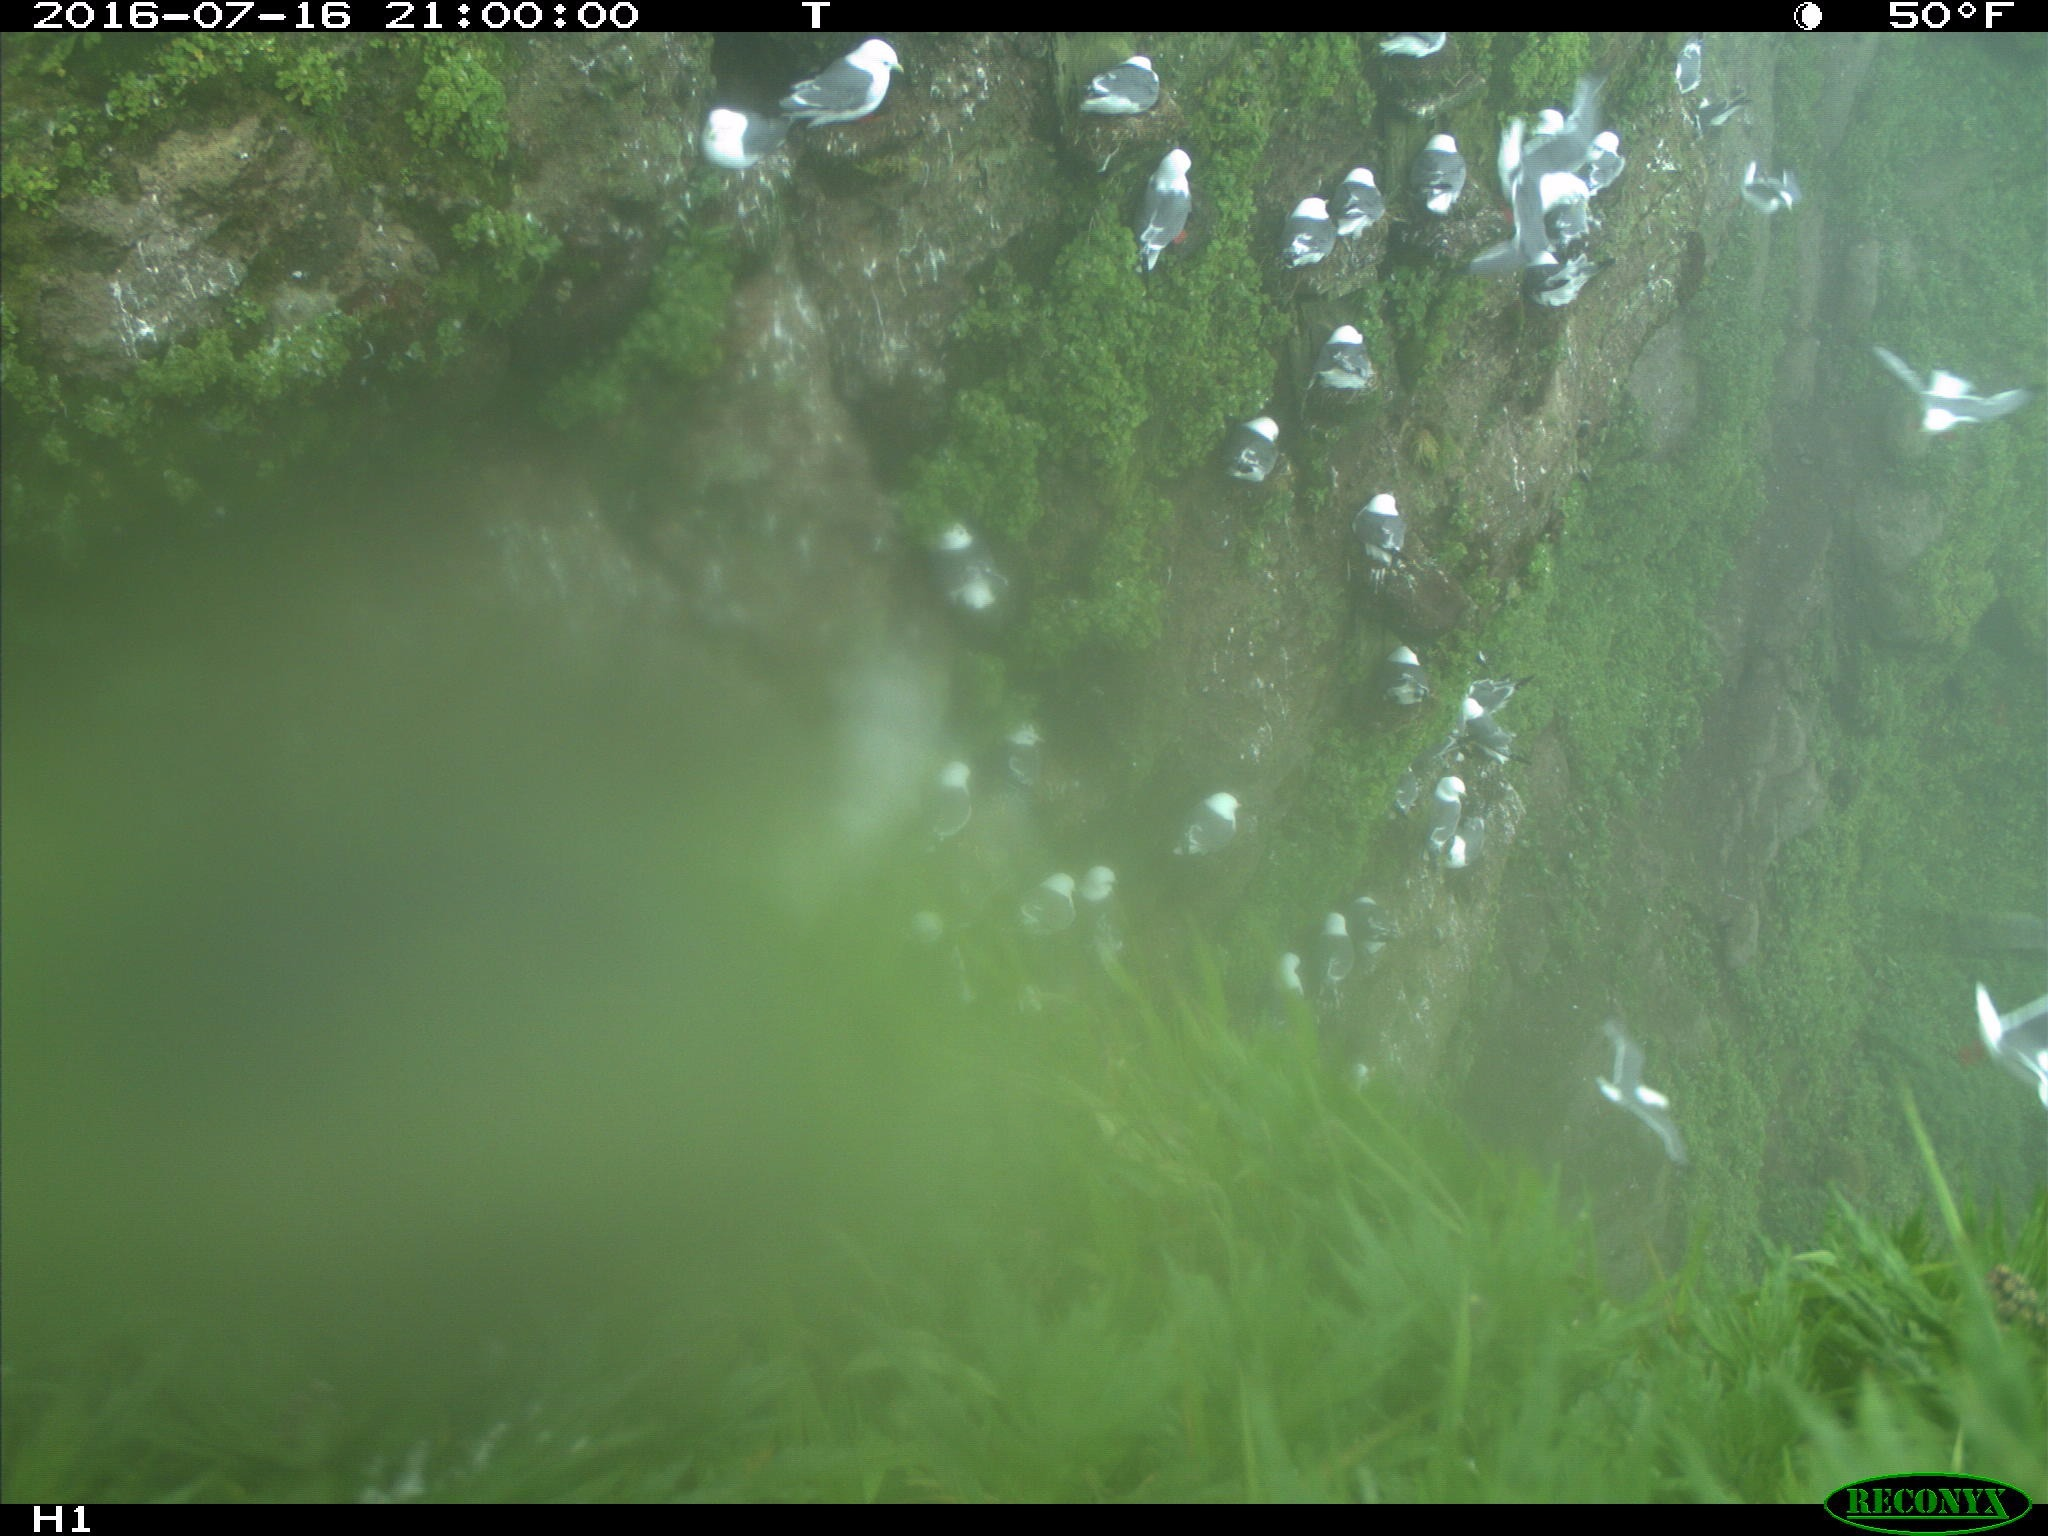Kittiwake: (1476, 77, 1664, 358), (1859, 311, 2040, 482), (1542, 1002, 1709, 1179), (766, 31, 958, 155), (910, 482, 1027, 632), (1118, 132, 1218, 305), (1945, 955, 2048, 1117), (684, 74, 813, 195), (1326, 119, 1417, 287), (1187, 390, 1303, 511), (1666, 34, 1784, 152), (1393, 110, 1505, 231), (1059, 845, 1158, 978), (1163, 757, 1272, 874), (1066, 40, 1197, 137), (1724, 139, 1837, 247), (1430, 644, 1546, 749), (1247, 160, 1338, 287), (1306, 302, 1400, 418), (1371, 608, 1450, 724), (1009, 849, 1089, 963), (972, 700, 1064, 799), (1334, 871, 1421, 975), (910, 744, 990, 854), (1409, 755, 1479, 878), (1335, 479, 1426, 568), (1297, 900, 1376, 1000), (1264, 936, 1321, 1050), (1377, 24, 1472, 74)
